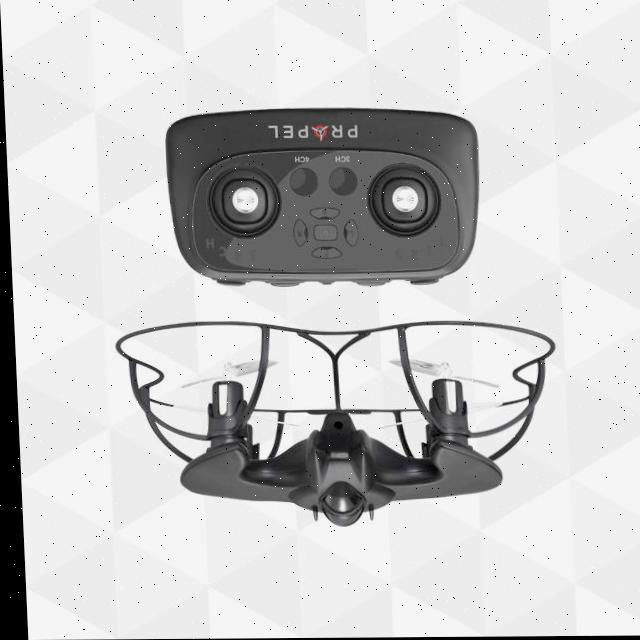drone: (109, 322, 560, 504)
